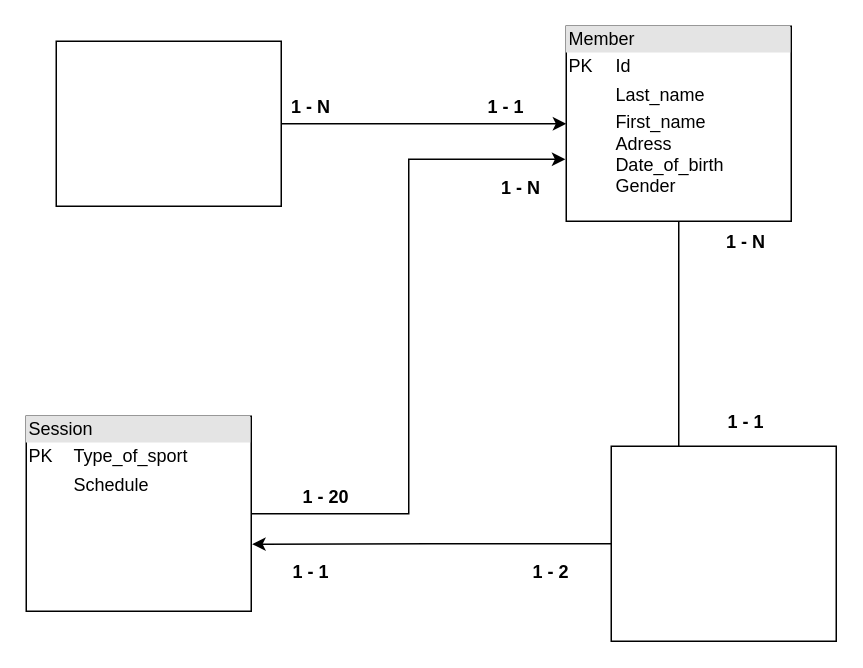
Some shapes in this 863 by 668 pixel diagram are drawn without their labels. The shapes that lost their labels are listed below. From the top down, each one's box as (x1, y1, x2, y2) in pixels, then its label:
(55, 40, 281, 206): Gymnasium PK name adress tel_number
(610, 445, 836, 641): Coache PK Last_name First_name Age Speciality
